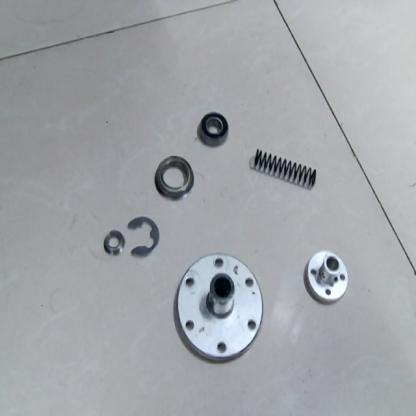FOD: (172, 248, 268, 366), (250, 144, 320, 191), (303, 247, 350, 308), (153, 154, 195, 201), (126, 213, 161, 261), (196, 108, 231, 146), (100, 224, 124, 262)
